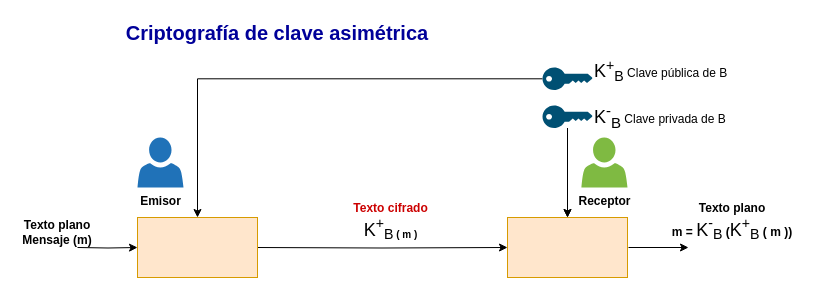
This 824x295 diagram has some shape labels left out. The box of each missing label's shape, as (x1, y1, x2, y2) in pixels:
Algoritmo de Desencriptación: (506, 216, 628, 278)
Algoritmo de Encriptación: (136, 216, 258, 278)
